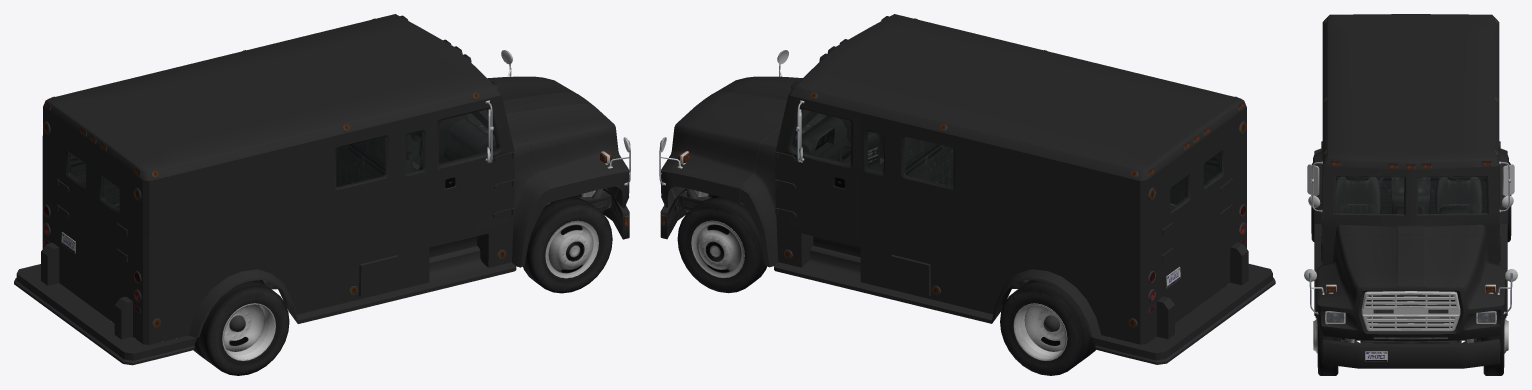
File: md_84_armored_low_poly_model.glb
The picture shows the model from 3 angles, left to right: view 1: azimuth 30°, elevation 25°; view 2: azimuth 150°, elevation 25°; view 3: azimuth 270°, elevation 25°; orthographic projection. The views are drawn at different scales.
Parts seen in each view (by area): view 1: BODY_F700V_body_0, hood_F700V_body_0, Door_right_F700V_body_0, bottom_F700V_bottom_0, bumper_rear_F700V_body_0, wheelFR_F700V_TIRE_0, wheelRR_F700V_TIRE_0, reardoor_right_F700V_body_0, reardoor_left_F700V_body_0, Body_glass_UCB_GLASS_CLEAN_0, wheelRR_F700V_RIM_0, wheelFR_F700V_RIM_0 (+5 smaller); view 2: BODY_F700V_body_0, hood_F700V_body_0, Door_left_F700V_body_0, bottom_F700V_bottom_0, bumper_rear_F700V_body_0, wheelRL_F700V_TIRE_0, wheelFL_F700V_TIRE_0, reardoor_right_F700V_body_0, reardoor_left_F700V_body_0, Body_glass_UCB_GLASS_CLEAN_0, wheelRL_F700V_RIM_0, wheelFL_F700V_RIM_0 (+5 smaller); view 3: BODY_F700V_body_0, hood_F700V_body_0, Windshield_UCB_GLASS_CLEAN_0, Hood_inner_F700V_bottom_0, bumper_front_F700V_body_0, bottom_F700V_bottom_0, Seats_GEN4DR_INTERIOR_0, Engine_F700V_bottom_0, Door_inner_right_F700V_bottom_0, Door_inner_left_F700V_bottom_0, wheelFR_F700V_TIRE_0, wheelFL_F700V_TIRE_0 (+4 smaller).
Boxes of the visible parts, x1,y1,x2,y2 form: BODY_F700V_body_0: (41,14,550,344); hood_F700V_body_0: (486,76,629,207); Door_right_F700V_body_0: (429,96,511,241); bottom_F700V_bottom_0: (44,15,611,327); bumper_rear_F700V_body_0: (14,264,196,365); wheelFR_F700V_TIRE_0: (523,197,612,293); wheelRR_F700V_TIRE_0: (193,280,289,375); reardoor_right_F700V_body_0: (92,150,126,296); reardoor_left_F700V_body_0: (58,126,92,271); Body_glass_UCB_GLASS_CLEAN_0: (336,131,423,187); wheelRR_F700V_RIM_0: (222,303,275,360); wheelFR_F700V_RIM_0: (545,220,598,278); BODY_F700V_body_0: (739,14,1248,344); hood_F700V_body_0: (660,76,802,207); Door_left_F700V_body_0: (778,96,860,240); bottom_F700V_bottom_0: (678,16,1244,327); bumper_rear_F700V_body_0: (1093,264,1275,364); wheelRL_F700V_TIRE_0: (1000,280,1095,375); wheelFL_F700V_TIRE_0: (677,197,766,293); reardoor_right_F700V_body_0: (1197,126,1231,271); reardoor_left_F700V_body_0: (1163,150,1196,295); Body_glass_UCB_GLASS_CLEAN_0: (867,131,953,187); wheelRL_F700V_RIM_0: (1013,303,1067,360); wheelFL_F700V_RIM_0: (691,220,744,277); BODY_F700V_body_0: (1313,14,1508,316); hood_F700V_body_0: (1315,234,1506,341); Windshield_UCB_GLASS_CLEAN_0: (1335,176,1486,213); Hood_inner_F700V_bottom_0: (1304,269,1517,339); bumper_front_F700V_body_0: (1322,339,1499,368); bottom_F700V_bottom_0: (1315,19,1506,343); Seats_GEN4DR_INTERIOR_0: (1335,176,1482,213); Engine_F700V_bottom_0: (1366,294,1455,338); Door_inner_right_F700V_bottom_0: (1307,161,1322,212); Door_inner_left_F700V_bottom_0: (1499,161,1514,212); wheelFR_F700V_TIRE_0: (1317,324,1338,375); wheelFL_F700V_TIRE_0: (1483,324,1504,375).
Size of the model in its own units: 634 by 258 by 269.
Materials: 8 (7 with a texture image).
